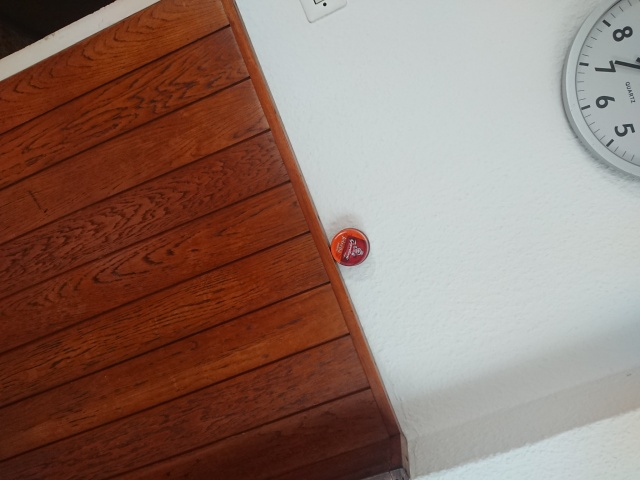Gavrilovic Pork Liver Pate 100g: (328, 226, 372, 267)
